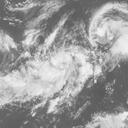cyclone: (23, 38, 87, 102), (91, 6, 127, 56)
